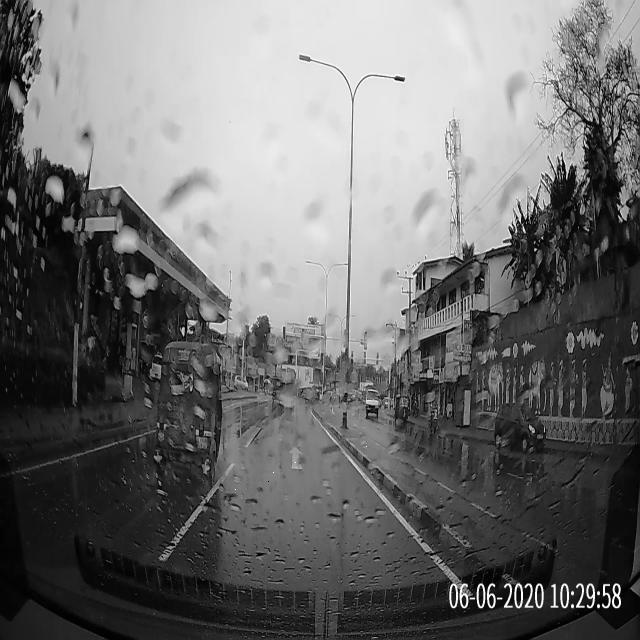forward: (221, 441, 385, 491)
